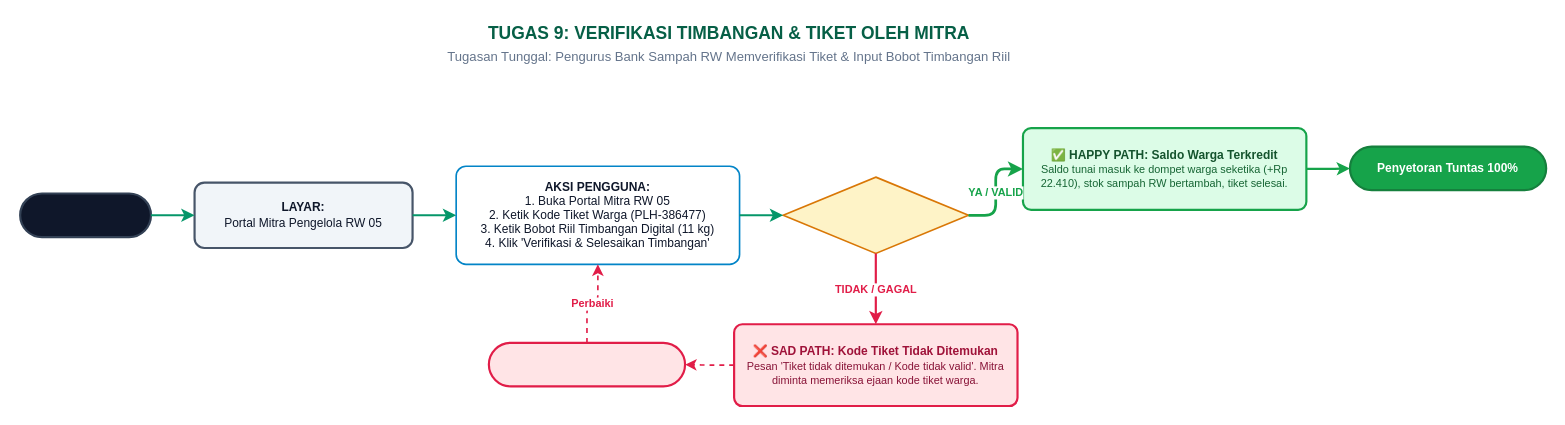
Some shapes in this 1565 by 425 pixel diagram are drawn without their labels. The centre of each missing label's shape, as x and y in pixels:
Kode Tiket Valid & Bobot Riil Terisi?: the point at 875,215
Koreksi Kode Tiket: the point at 586,364
MULAI TUGAS: the point at 85,215
